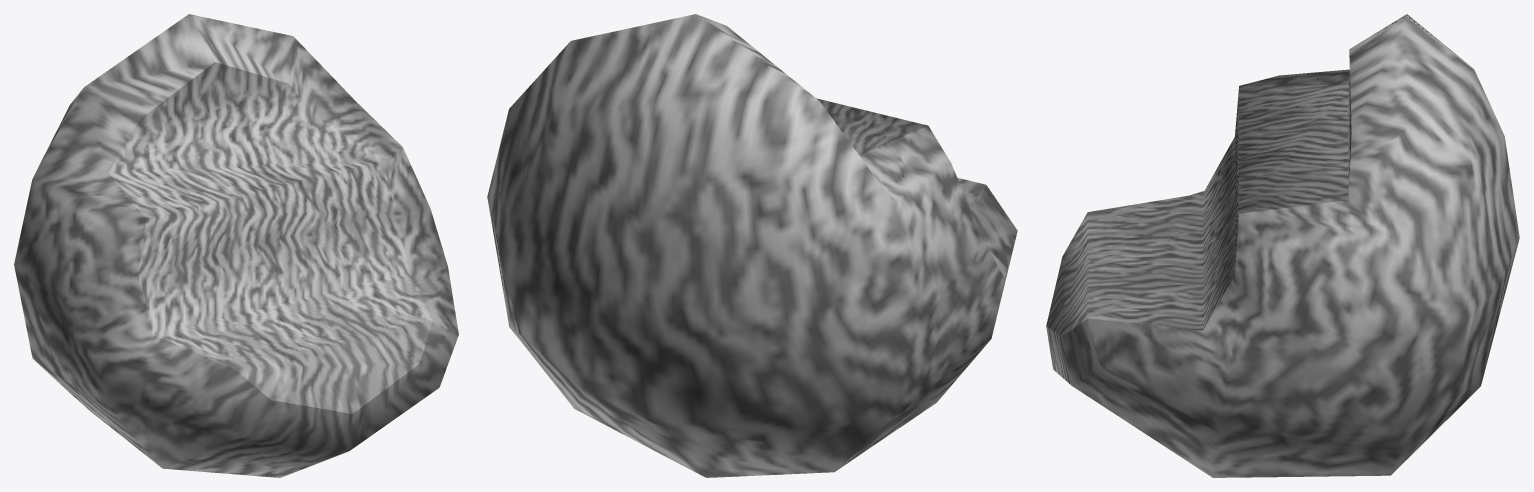
Rendered from Wig_Bob_Hair_ShortCurly.fbx.
3 views of the same model, side by side, from view 1: azimuth 30°, elevation 25°; view 2: azimuth 150°, elevation 25°; view 3: azimuth 270°, elevation 25° (orthographic). The views are drawn at different scales.
Visible parts, largest first — view 1: BoxOfJars003; view 2: BoxOfJars003; view 3: BoxOfJars003.
Boxes of the visible parts, x1,y1,x2,y2 form: BoxOfJars003: (14,14,458,477); BoxOfJars003: (487,14,1017,477); BoxOfJars003: (1046,14,1519,477).
Bounding box in the file's own units: 14.85 × 15.57 × 15.28.
